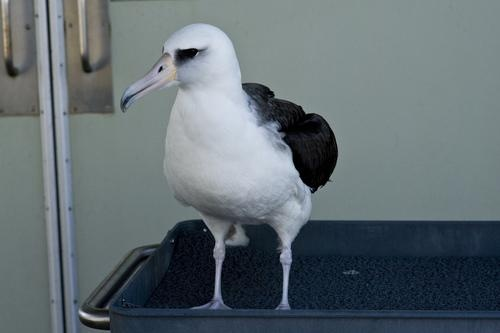bird: (112, 25, 341, 315)
